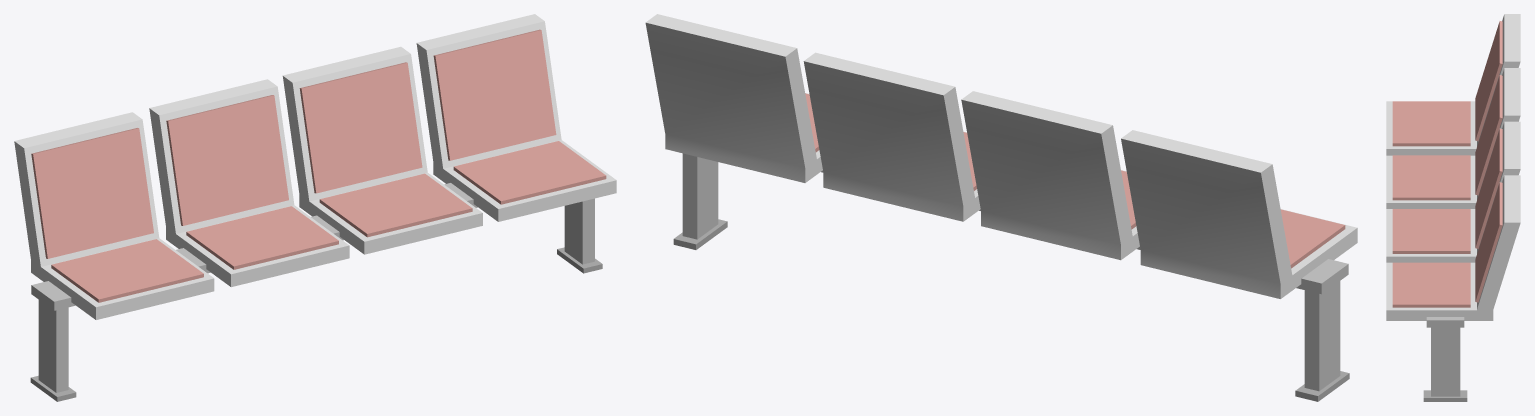
Rendered from bench.fbx.
3 views of the same model, side by side, from view 1: azimuth 30°, elevation 25°; view 2: azimuth 150°, elevation 25°; view 3: azimuth 270°, elevation 25° (orthographic). The views are drawn at different scales.
Visible parts, largest first — view 1: Cube_17; view 2: Cube_17; view 3: Cube_17.
Part boxes in pixels (left/top/right/bottom): Cube_17: left=14, top=14, right=616, bottom=401; Cube_17: left=645, top=14, right=1357, bottom=401; Cube_17: left=1386, top=14, right=1520, bottom=401.
Bounding box in the file's own units: 94.64 × 35.38 × 24.53.
